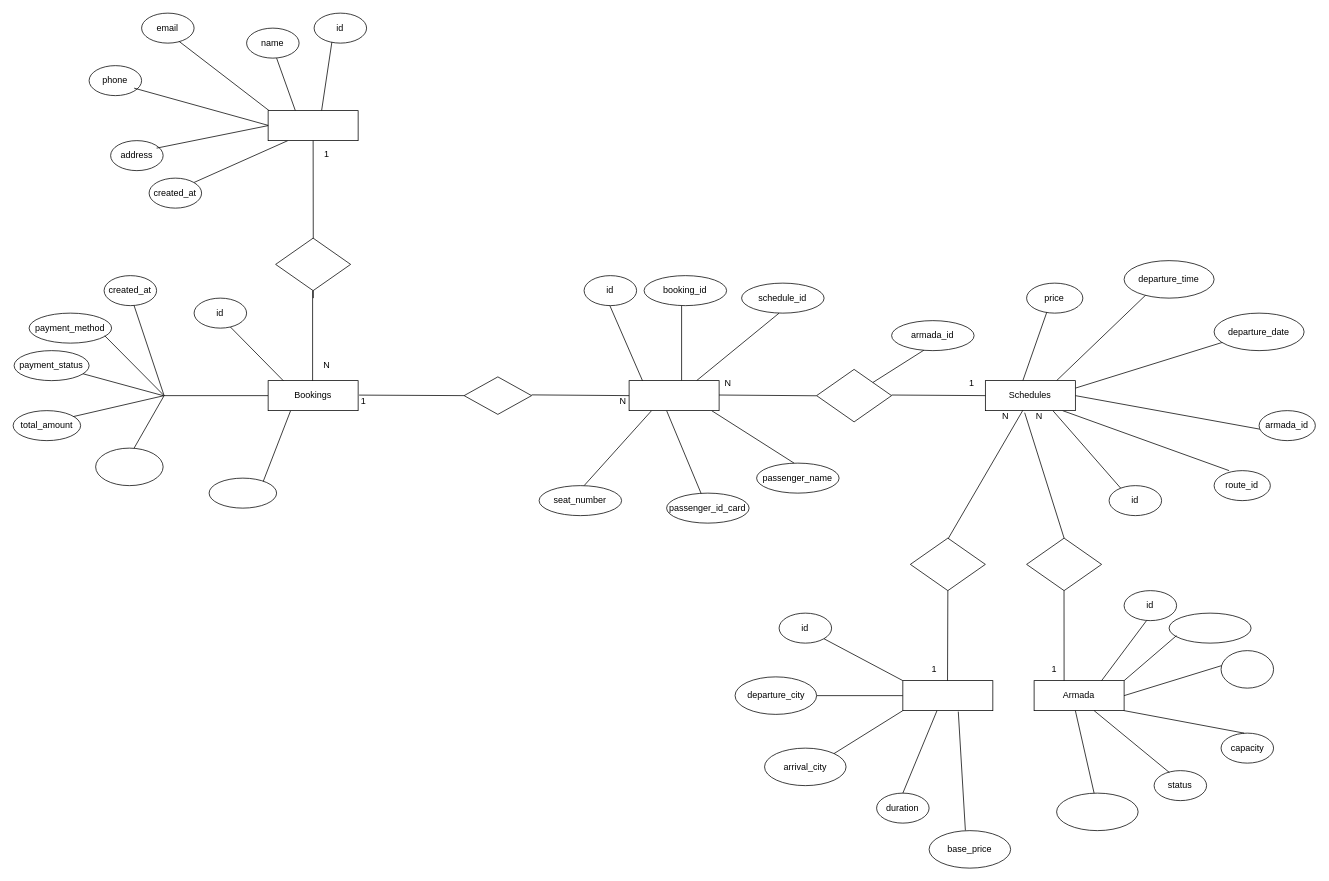
Some shapes in this 1329 by 881 pixel diagram are drawn without their labels. The centre of each missing label's shape, as x and y in pixels:
"booking_code" goes at (129,466).
"consist of" goes at (497,395).
"Customer" goes at (312,125).
"customer_id" goes at (242,492).
"Do" goes at (313,264).
"have" goes at (947,564).
"includes" goes at (854,395).
"model" goes at (1247,669).
"plate_number" goes at (1209,627).
"Routes" goes at (947,695).
"Tickets" goes at (673,395).
"update_at" goes at (1097,811).
"use" goes at (1064,564).
